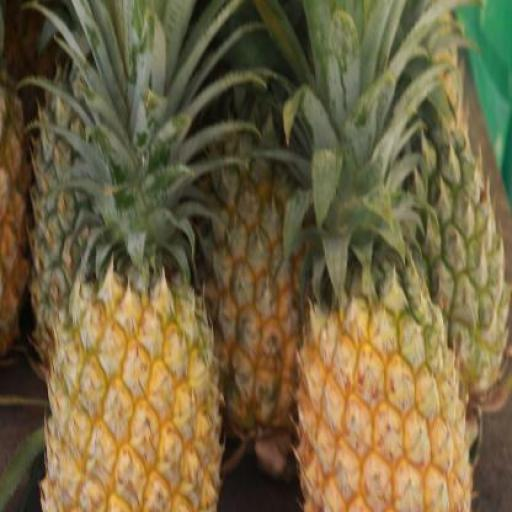Pineapple - v8 v1: (290, 270, 479, 512), (45, 268, 223, 512)
